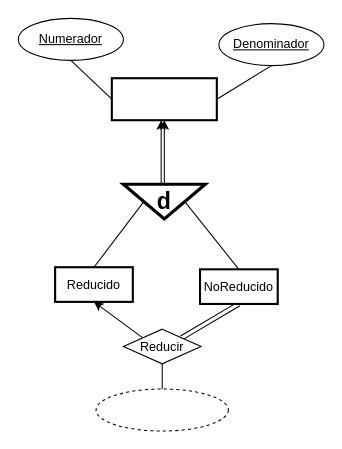
The diagram is 342 pixels wide and 449 high, and some of its shapes have lost their labels. Here are the shapes that lost their labels. From the top down, the centre of each, then its label:
the point at 163,99: NumeroRacional
the point at 161,409: FactorDeReducción
